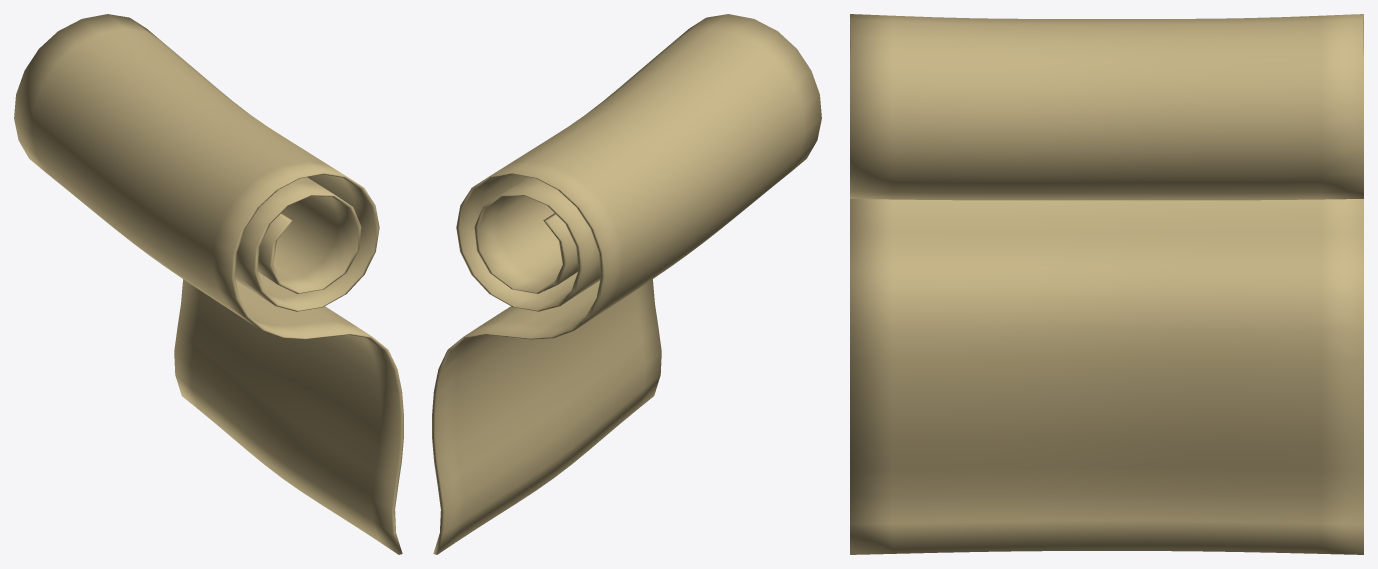
Rendered from ParcheminsFallingOfShelf.fbx.
The picture shows the model from 3 angles, left to right: view 1: azimuth 30°, elevation 25°; view 2: azimuth 150°, elevation 25°; view 3: azimuth 270°, elevation 25°; orthographic projection. The views are drawn at different scales.
Visible parts, largest first — view 1: Plane.003; view 2: Plane.003; view 3: Plane.003.
Part boxes in pixels (x1=…): Plane.003: x1=14, y1=14, x2=403, y2=554; Plane.003: x1=432, y1=14, x2=821, y2=554; Plane.003: x1=850, y1=14, x2=1363, y2=554.
Size of the model in its own units: 14.02 by 30.66 by 30.
